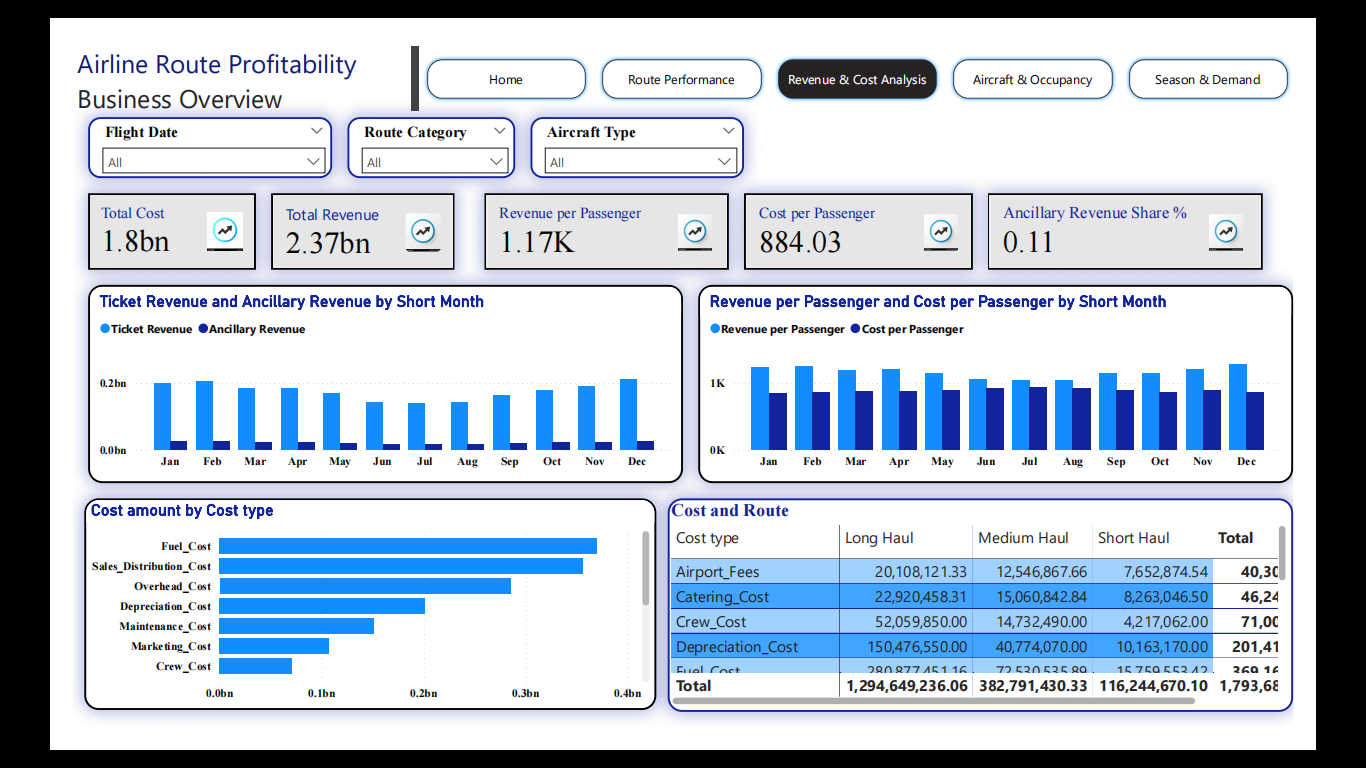

The page's visual inventory and layout, read from the dashboard file:
{"tool":"powerbi","page":{"name":"Revenue & Cost Analysis","canvas":[1280,720],"ordinal":2},"visuals":[{"type":"textbox","box":[0,0,368,80],"z":0},{"type":"slicer","fields":{"Values":["airline_route_profitability.Flight_Date"]},"box":[16,80,256,64],"z":6000},{"type":"slicer","fields":{"Values":["airline_route_profitability.Route_Category"]},"box":[288,80,176,64],"z":7000},{"type":"slicer","fields":{"Values":["airline_route_profitability.Aircraft_Type"]},"box":[480,80,224,64],"z":8000},{"type":"cardVisual","fields":{"Data":["Sum(airline_route_profitability.Total_Cost)"]},"box":[16,160,176,80],"z":9000},{"type":"cardVisual","fields":{"Data":["Sum(airline_route_profitability.Total_Revenue)"]},"box":[208,160,192,80],"z":10000},{"type":"cardVisual","fields":{"Data":["airline_route_profitability.Revenue per Passenger"]},"box":[432,160,256,80],"z":11000},{"type":"cardVisual","fields":{"Data":["airline_route_profitability.Cost per Passenger"]},"box":[704,160,240,80],"z":12000},{"type":"cardVisual","fields":{"Data":["airline_route_profitability.Ancillary Revenue Share %"]},"box":[960,160,288,80],"z":13000},{"type":"lineClusteredColumnComboChart","fields":{"Category":["airline_route_profitability.Shortt Month"],"Y":["Sum(airline_route_profitability.Ticket_Revenue)","Sum(airline_route_profitability.Ancillary_Revenue)"]},"box":[16,256,624,208],"z":14000},{"type":"clusteredBarChart","fields":{"Category":["FlightCosts.Cost_type"],"Y":["Sum(FlightCosts.Cost_amount)"]},"box":[12,480,600,222],"z":15000},{"type":"pivotTable","title":"Cost and Route","fields":{"Rows":["FlightCosts.Cost_type"],"Columns":["airline_route_profitability.Route_Category"],"Values":["Sum(FlightCosts.Cost_amount)"]},"box":[624,480,656,224],"z":16000},{"type":"lineClusteredColumnComboChart","fields":{"Category":["airline_route_profitability.Shortt Month"],"Y":["airline_route_profitability.Revenue per Passenger","airline_route_profitability.Cost per Passenger"]},"box":[656,256,624,208],"z":17000},{"type":"pageNavigator","box":[368,16,912,48],"z":17003}]}

Visuals, with their boxes in screenshot pixels (x1, y1, x2, y2), scaled from the page's 1280x720 canvas onto the 1366x768 screenshot:
textbox: Rect(0, 0, 393, 85)
slicer - airline_route_profitability.Flight_Date: Rect(17, 85, 290, 154)
slicer - airline_route_profitability.Route_Category: Rect(307, 85, 495, 154)
slicer - airline_route_profitability.Aircraft_Type: Rect(512, 85, 751, 154)
cardVisual - Sum(airline_route_profitability.Total_Cost): Rect(17, 171, 205, 256)
cardVisual - Sum(airline_route_profitability.Total_Revenue): Rect(222, 171, 427, 256)
cardVisual - airline_route_profitability.Revenue per Passenger: Rect(461, 171, 734, 256)
cardVisual - airline_route_profitability.Cost per Passenger: Rect(751, 171, 1007, 256)
cardVisual - airline_route_profitability.Ancillary Revenue Share %: Rect(1024, 171, 1332, 256)
lineClusteredColumnComboChart - airline_route_profitability.Shortt Month x Sum(airline_route_profitability.Ticket_Revenue): Rect(17, 273, 683, 495)
clusteredBarChart - FlightCosts.Cost_type x Sum(FlightCosts.Cost_amount): Rect(13, 512, 653, 749)
"Cost and Route" pivotTable: Rect(666, 512, 1365, 751)
lineClusteredColumnComboChart - airline_route_profitability.Shortt Month x airline_route_profitability.Revenue per Passenger: Rect(700, 273, 1365, 495)
pageNavigator: Rect(393, 17, 1365, 68)
